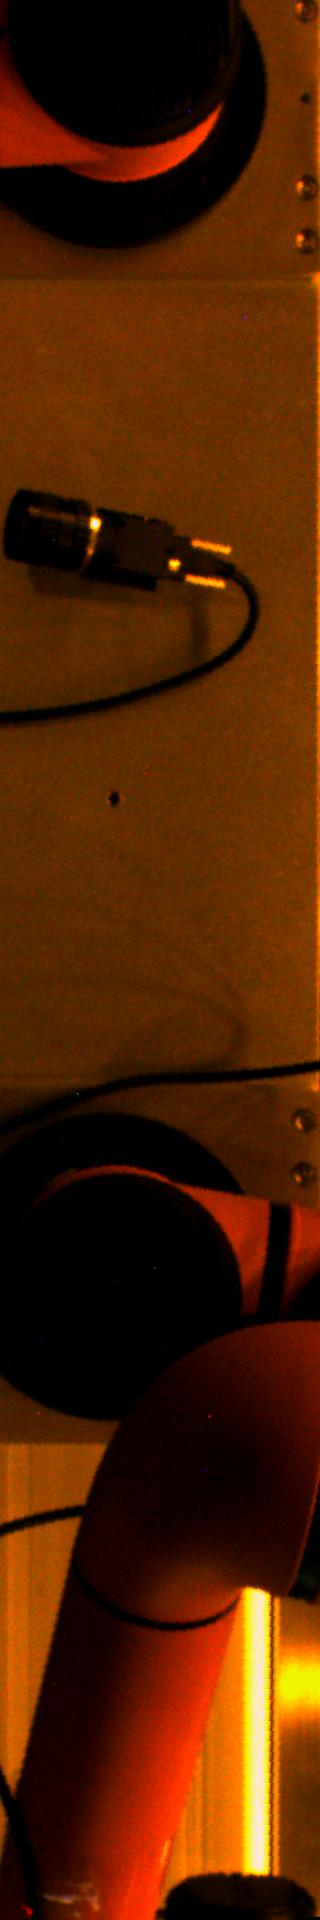keyPoint_2: (98, 785, 128, 816)
